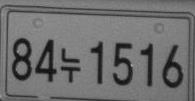1: (88, 40, 110, 84), (138, 42, 159, 86)
4: (35, 39, 57, 82)
5: (112, 42, 134, 85)
6: (161, 44, 184, 88)
8: (11, 36, 32, 81)
누: (60, 47, 80, 83)
